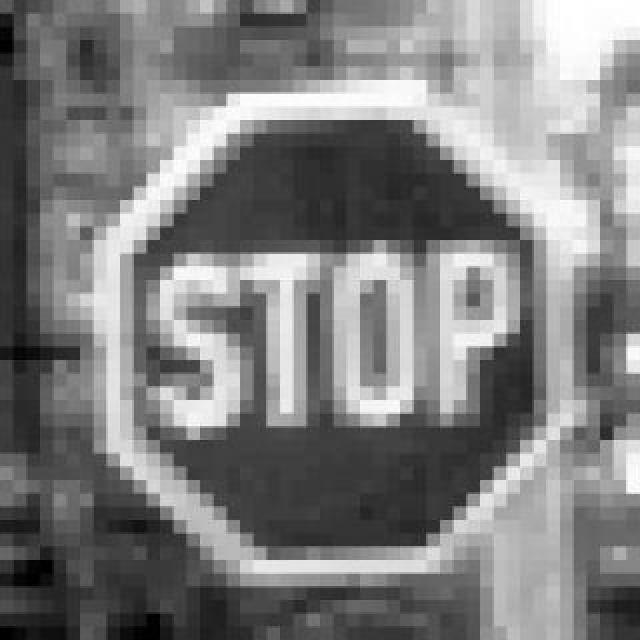stop: (80, 68, 560, 574)
